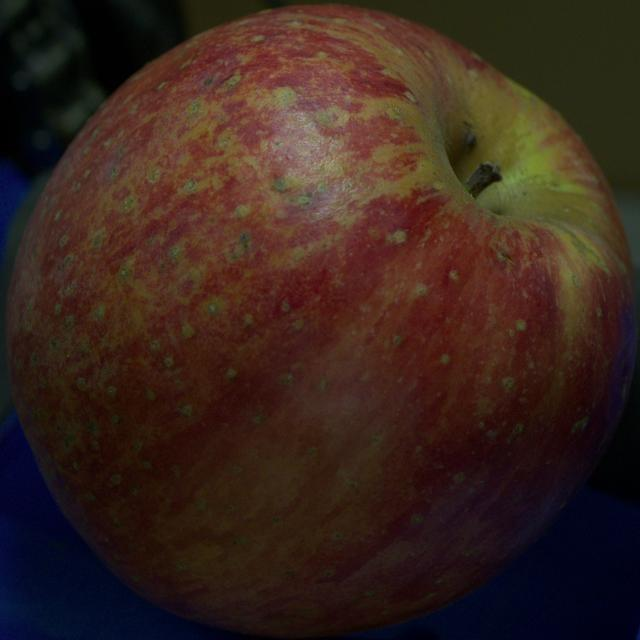apple: (6, 6, 636, 636)
scratch: (497, 250, 514, 264)
